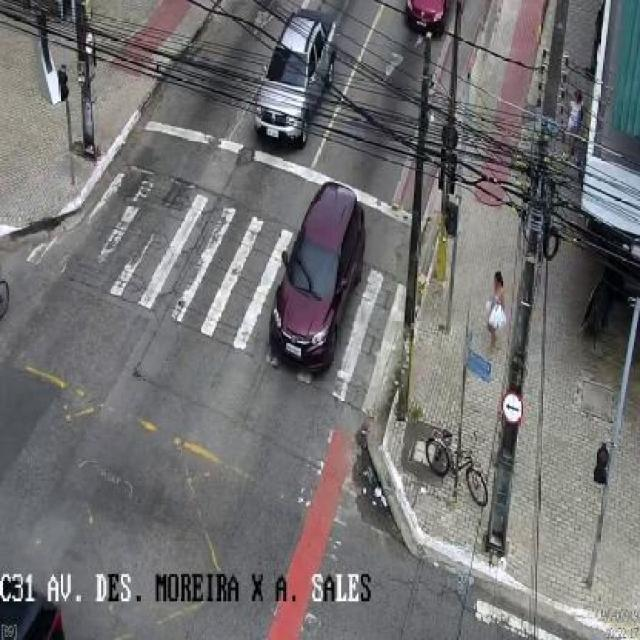Car: (267, 181, 367, 374)
Cycle: (424, 428, 488, 504)
Truck: (255, 8, 339, 147)
